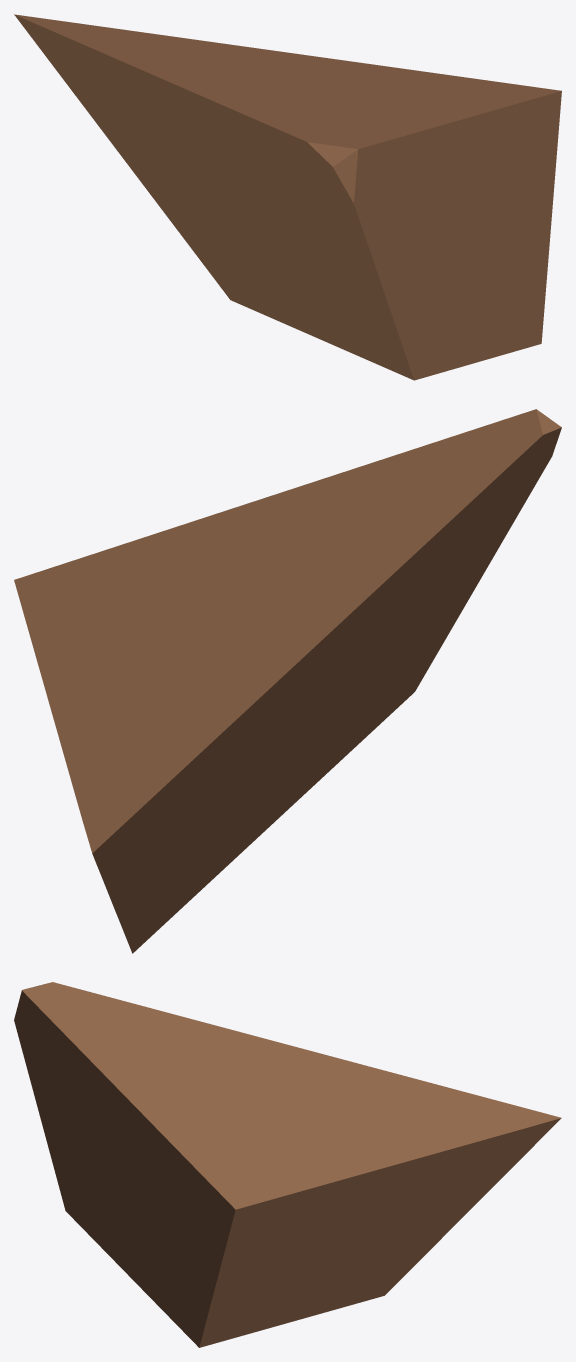
The model's file is WoodCellCube_003_cell_008.fbx.
3 renders of one model, top to bottom at view 1: azimuth 30°, elevation 25°; view 2: azimuth 150°, elevation 25°; view 3: azimuth 270°, elevation 25°, orthographic. The views are drawn at different scales.
Visible parts, largest first — view 1: WoodCellCube_003_cell_008; view 2: WoodCellCube_003_cell_008; view 3: WoodCellCube_003_cell_008.
Boxes of the visible parts, <box> form: WoodCellCube_003_cell_008: <box>14,14,561,380</box>; WoodCellCube_003_cell_008: <box>14,409,561,953</box>; WoodCellCube_003_cell_008: <box>14,982,561,1347</box>.
Bounding box in the file's own units: 0.6971 × 0.365 × 0.3938.
1 material, 1 textured.
